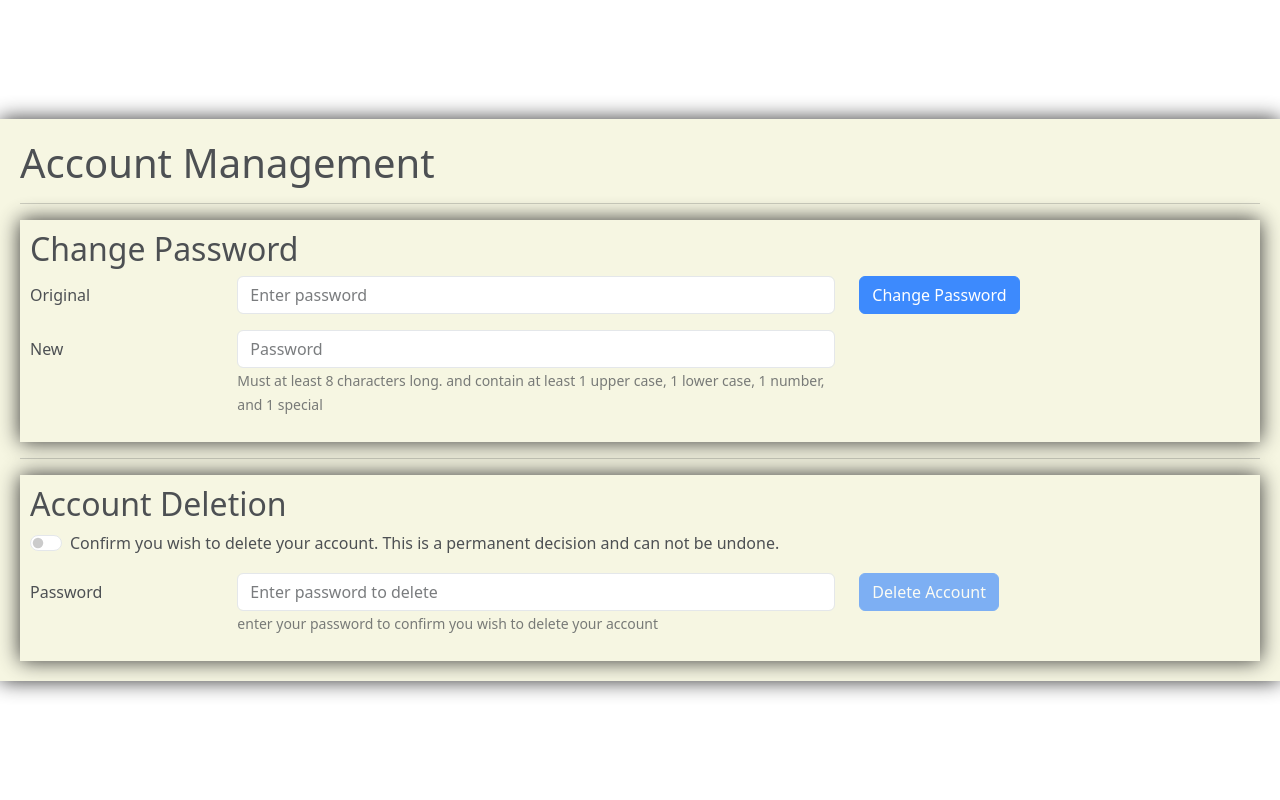
Scenario: Account Management page tests › Delete Account Tests › the delete button is not disabled if the switch is on
Click the checkbox with test id "deleteSwitch".
click(46, 543)  # box [30,535,62,551]
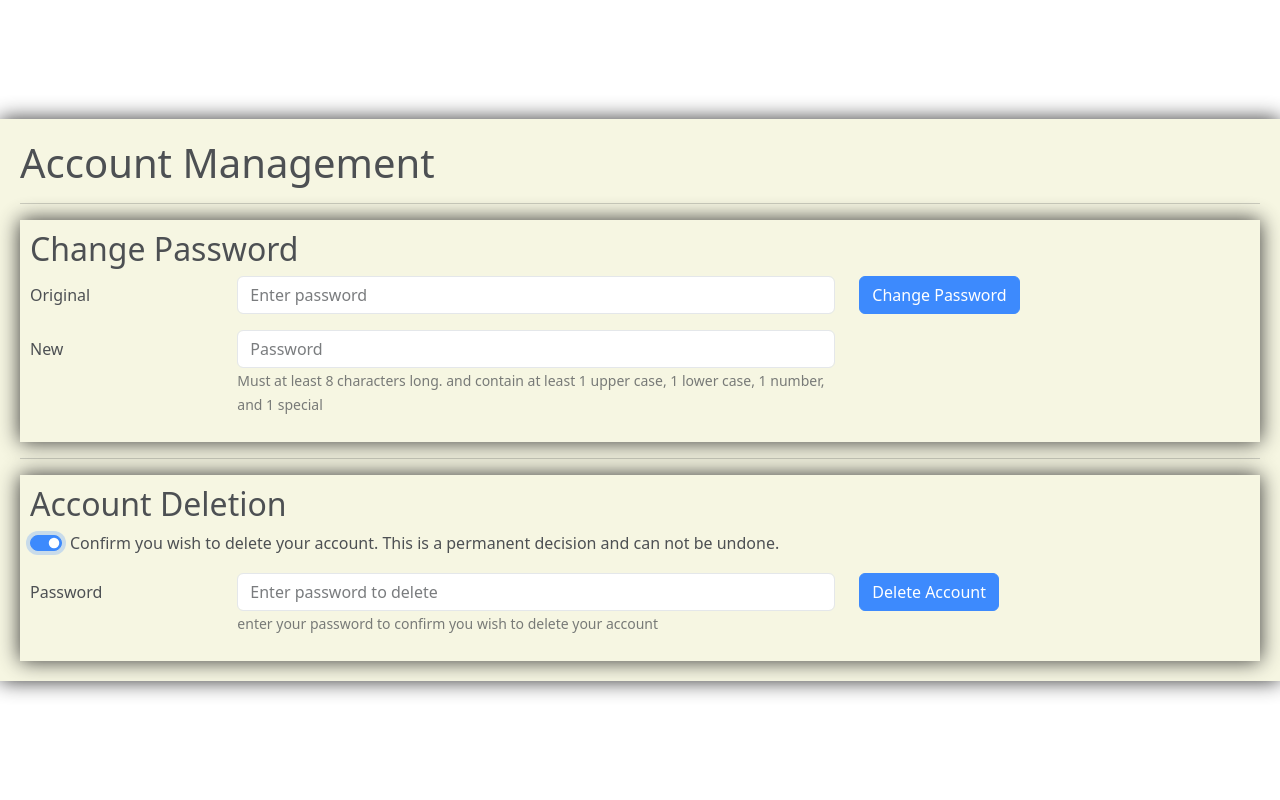
Now the button with test id "deleteButton" is enabled, box [859,573,999,611]
